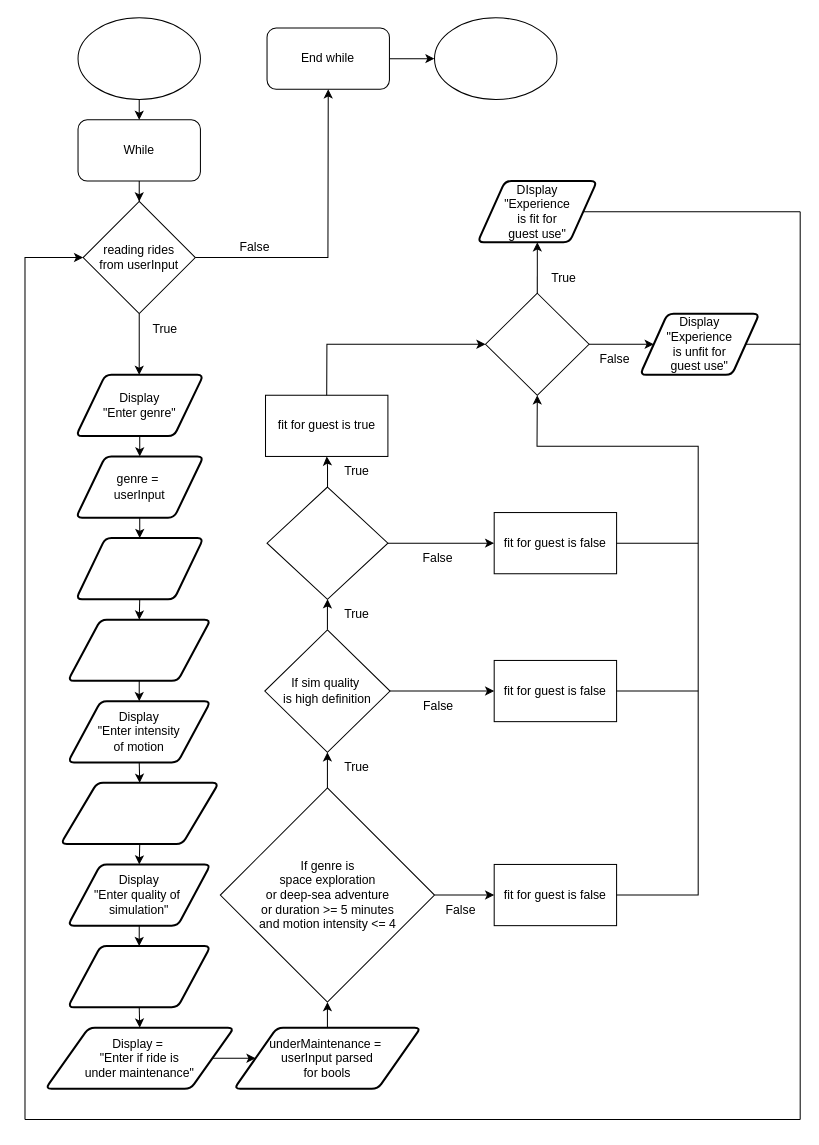
The diagram is 819 pixels wide and 1145 high, and some of its shapes have lost their labels. Each missing label, with the centre of its shape:
Display "Enter duration in minutes": point 139,568
duration = userInput parsed for doubles: point 138,649
End: point 495,58
If fit for guest is true: point 536,343
If ride is not under maintenance: point 327,542
motionIntensity = userInput parsed for integers: point 139,813
simQuality = userInput: point 138,976
Start: point 138,58
